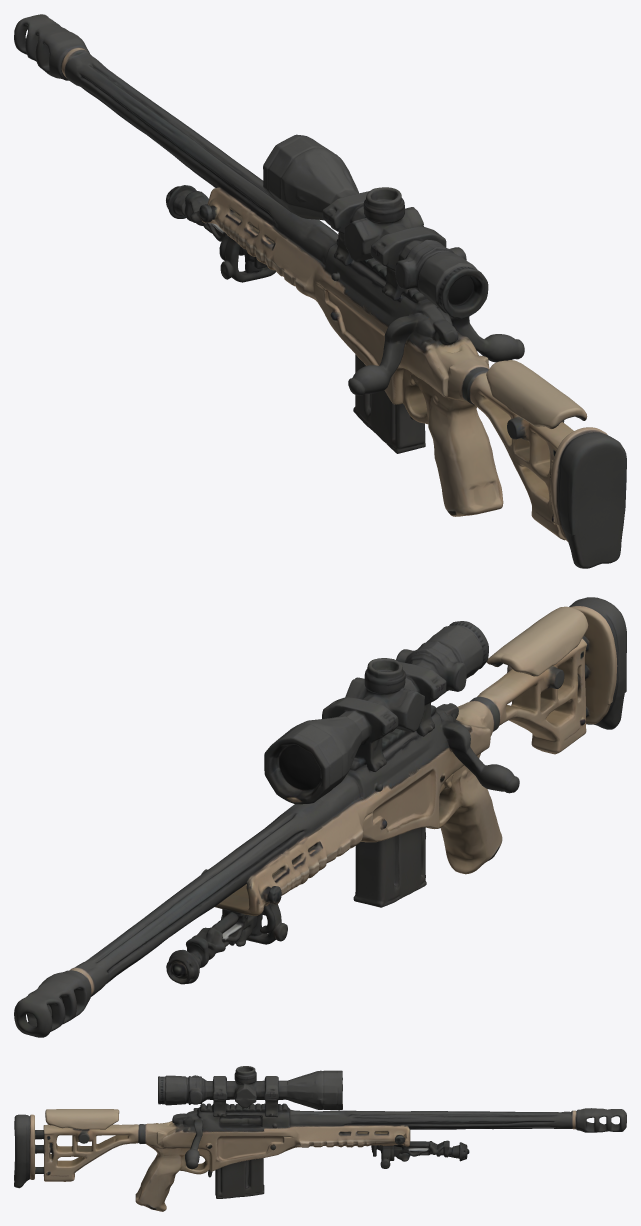
File: w_SR50-LPID24NH.glb
The picture shows the model from 3 angles, top to bottom: view 1: azimuth 30°, elevation 25°; view 2: azimuth 150°, elevation 25°; view 3: azimuth 270°, elevation 25°; orthographic projection. The views are drawn at different scales.
Bounding box in the file's own units: 0.1655 × 0.2424 × 0.95.
Materials: 1 (1 with a texture image).
